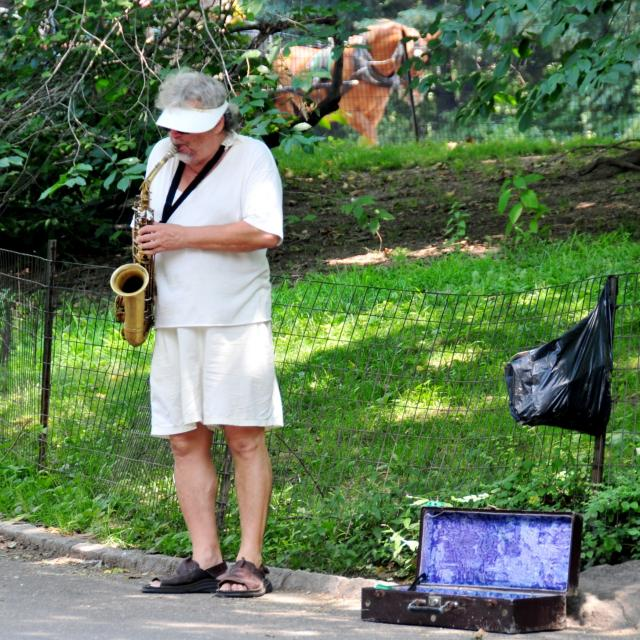saxophone: (108, 146, 180, 350)
